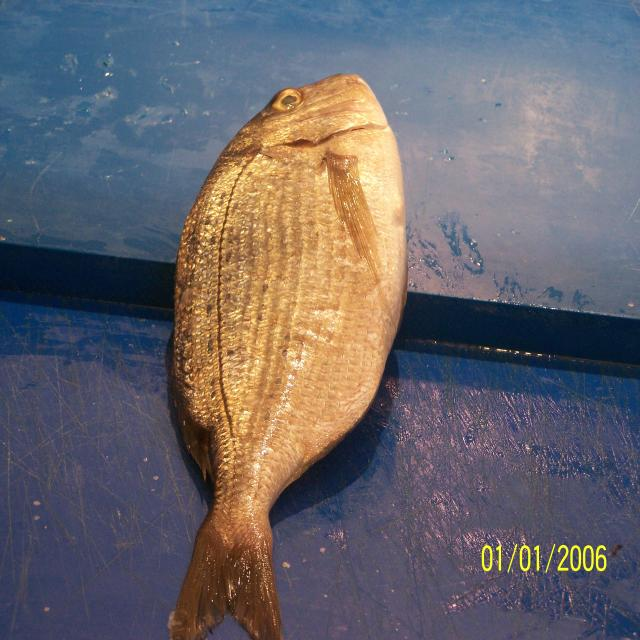Red-Sea-Bream-mercan-: (167, 74, 408, 640)
